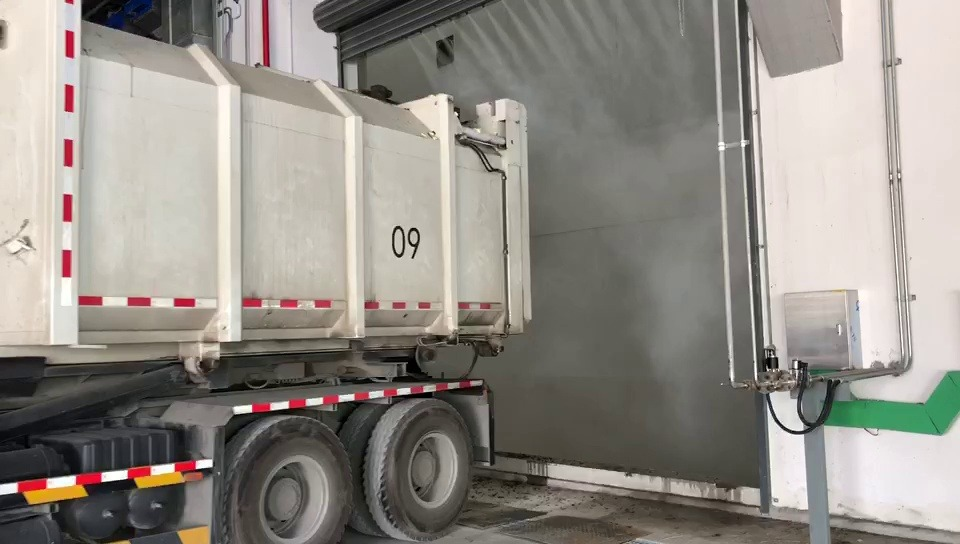dust: (555, 99, 729, 472)
truck: (0, 7, 542, 544)
